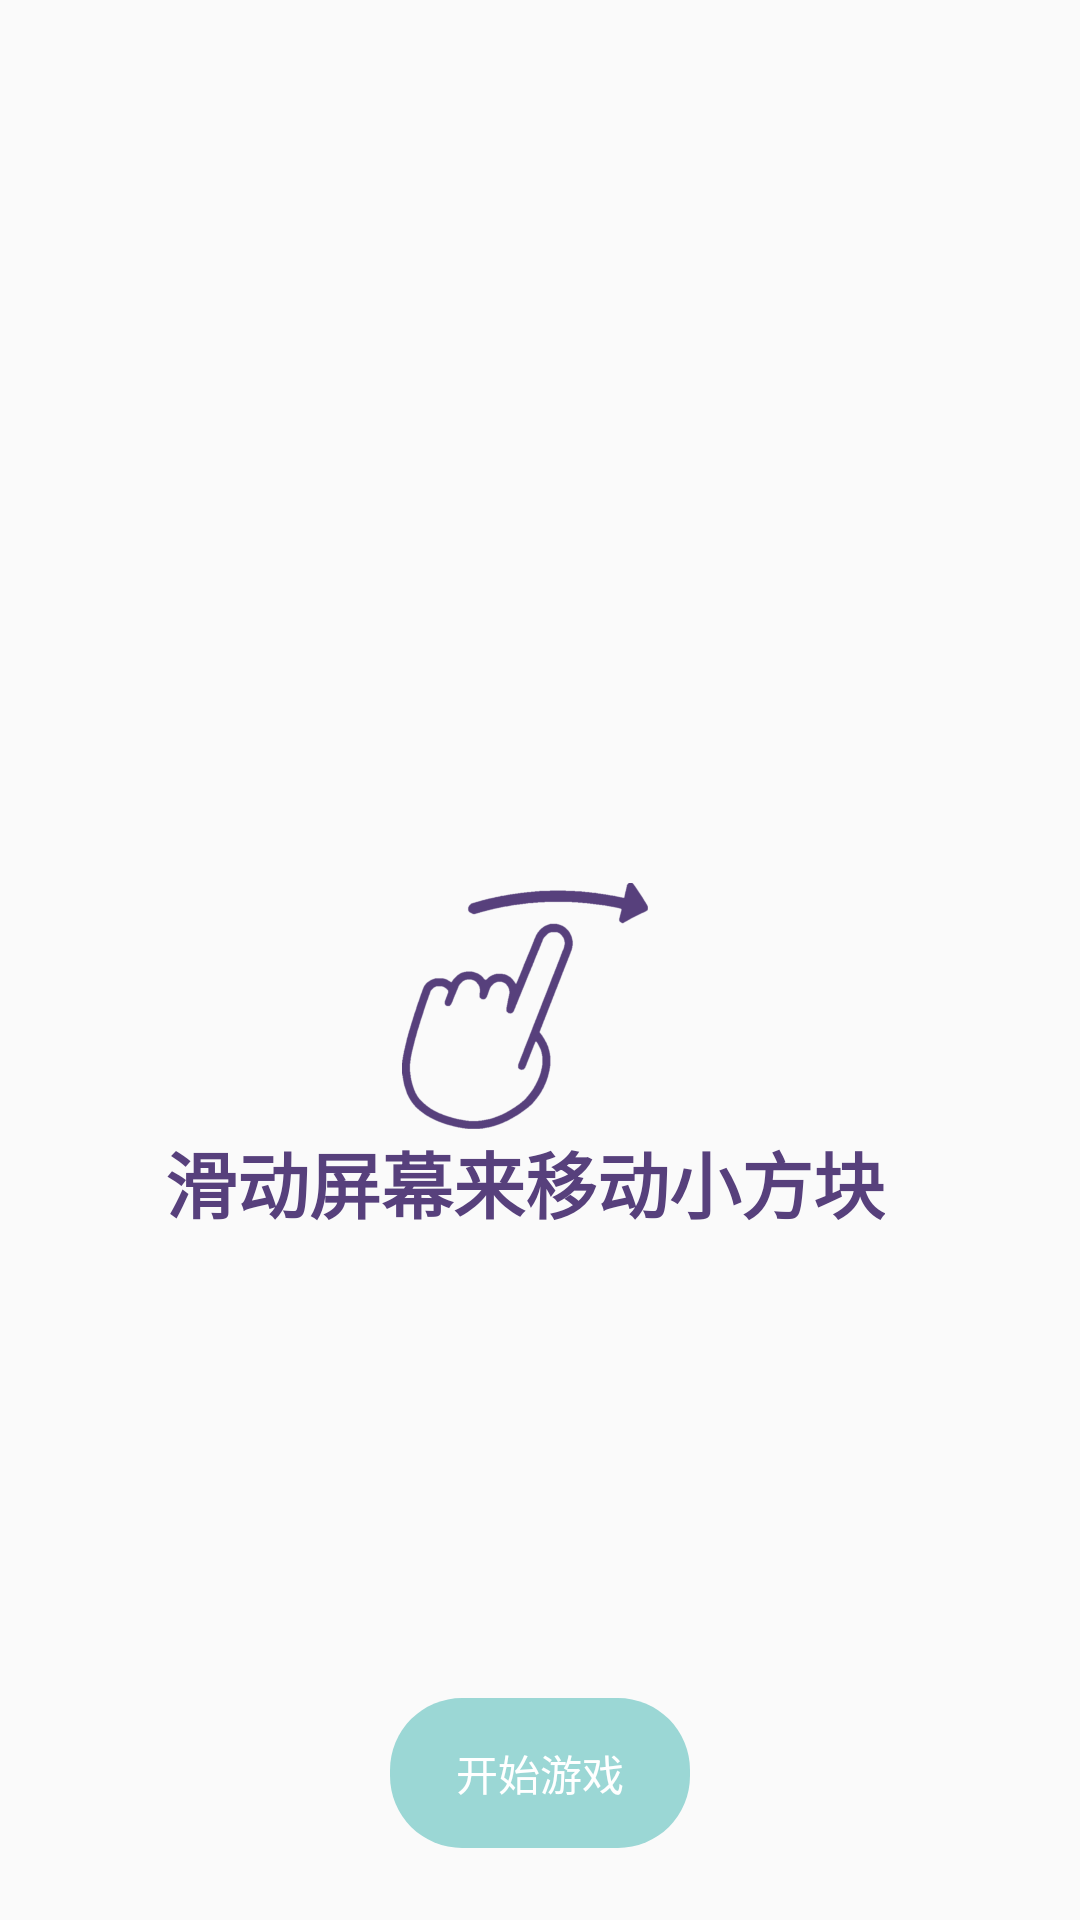

Icon click points for this 1080px×1920px phone screenshot, format (x,y):
swipe: (525,1006)
